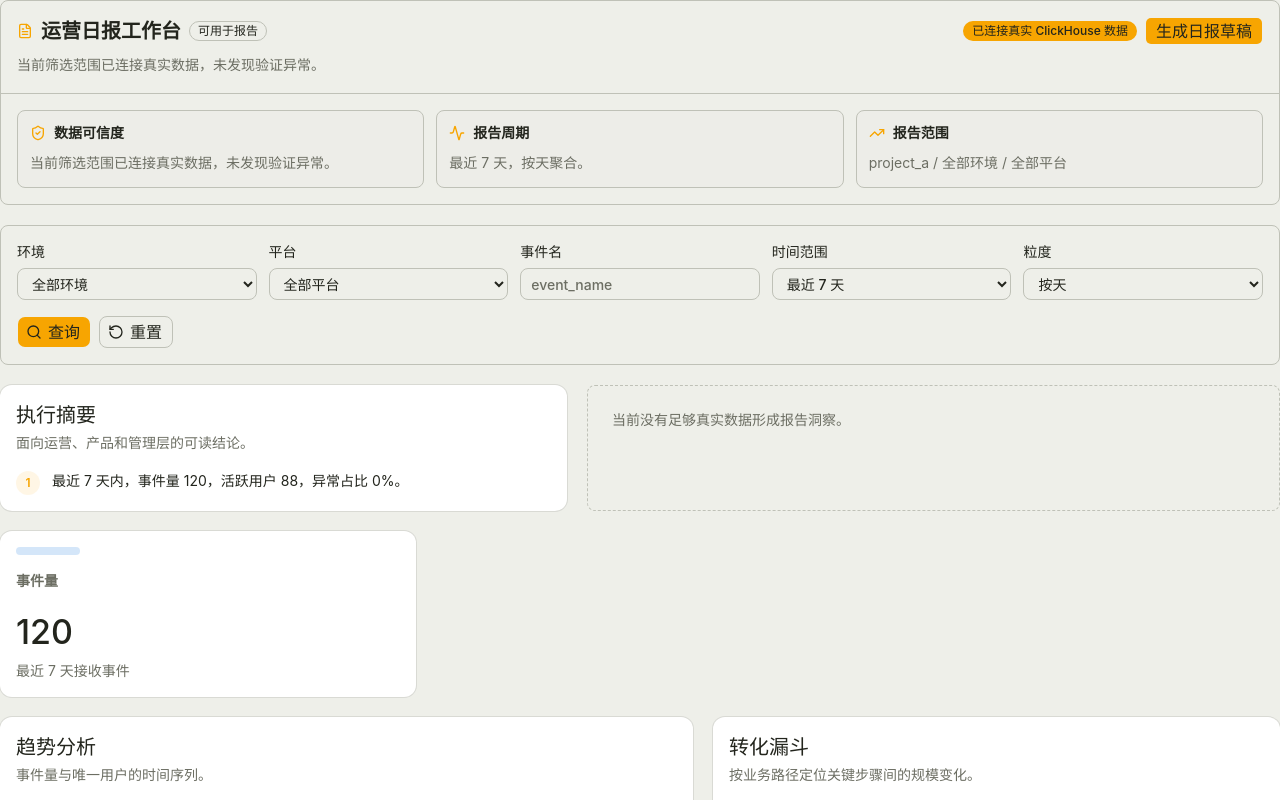
Test: ReportsWorkbench client refresh › refreshes report filters through the preview API without page links
Expected: the dropdown named "range" is shown, [772,268,1011,300]
Expected: the dropdown named "granularity" is shown, [1023,268,1263,300]
Select "prod" in the dropdown named "environment" at {"x": 137, "y": 284}, box [17,268,257,300]
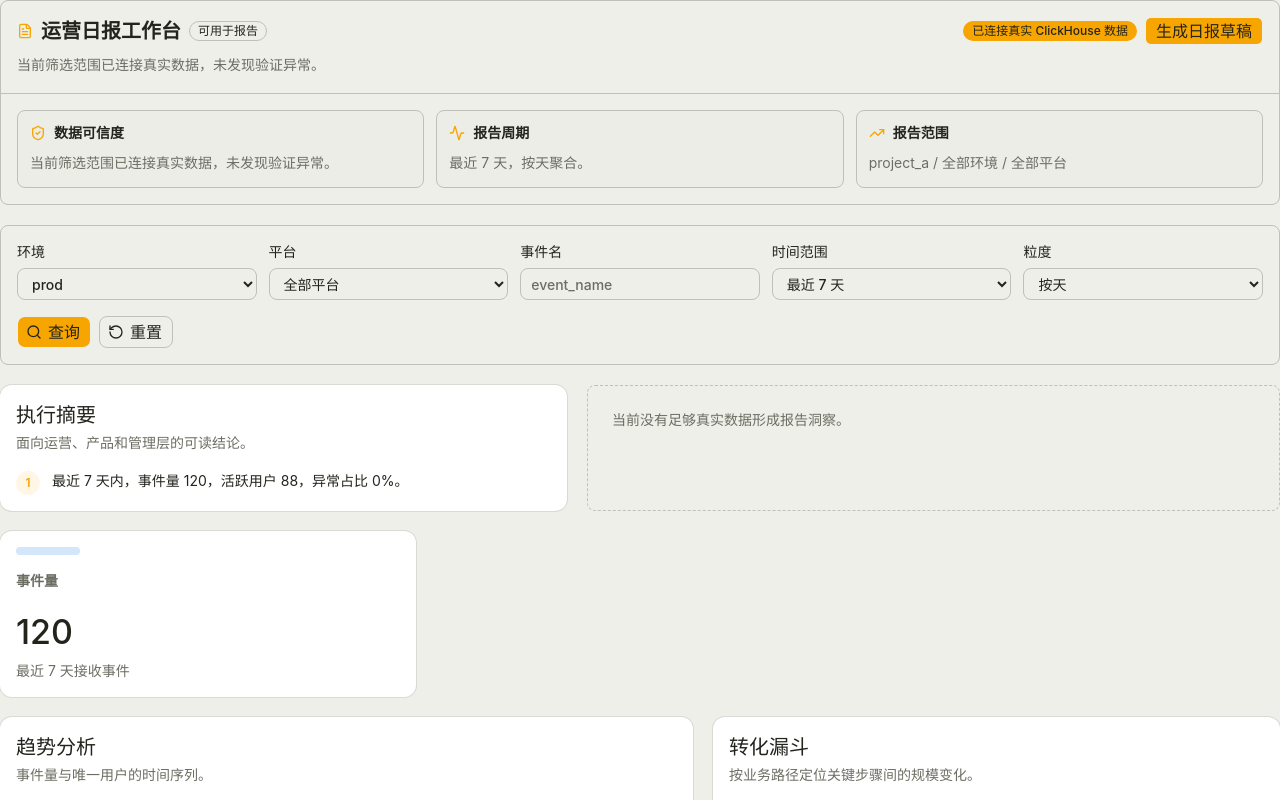
Select "最近 30 天" in the dropdown named "range" at {"x": 892, "y": 284}, box [772,268,1011,300]
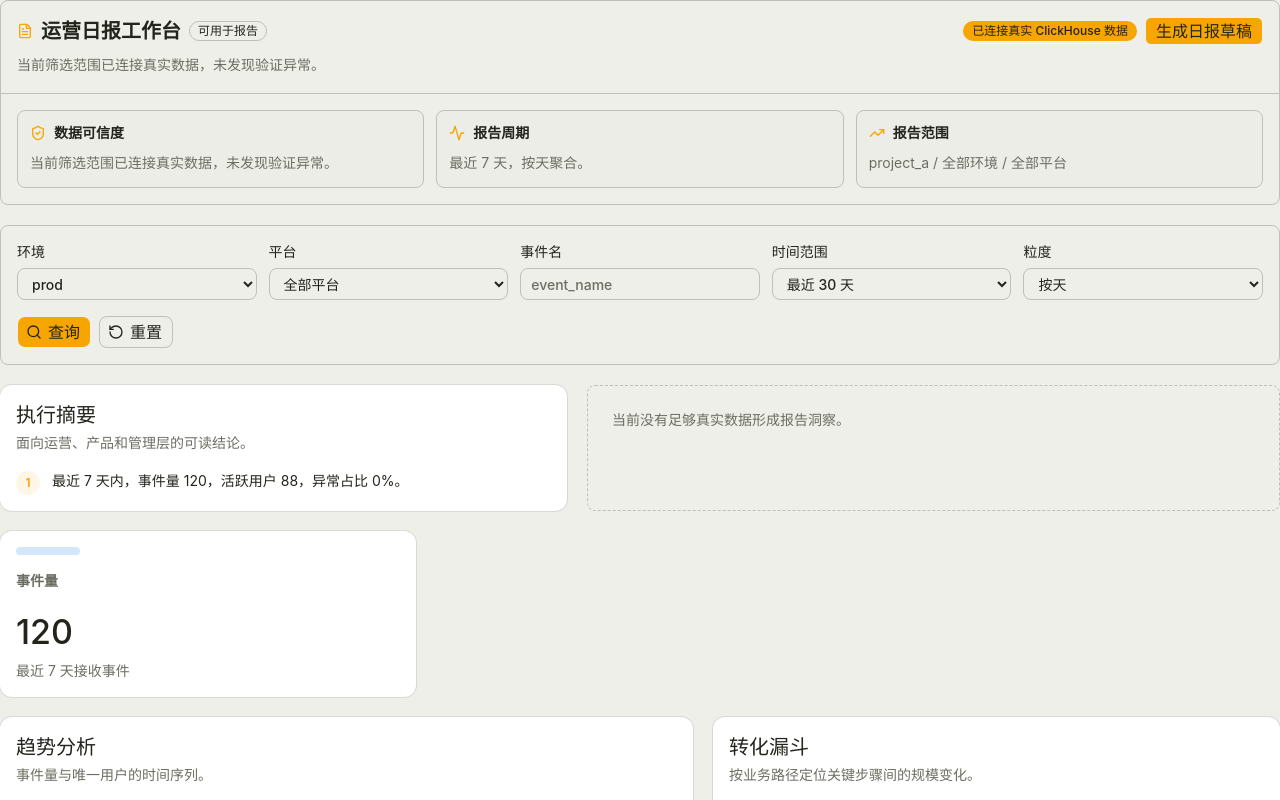
Select "按小时" in the dropdown named "granularity" at {"x": 1143, "y": 284}, box [1023,268,1263,300]
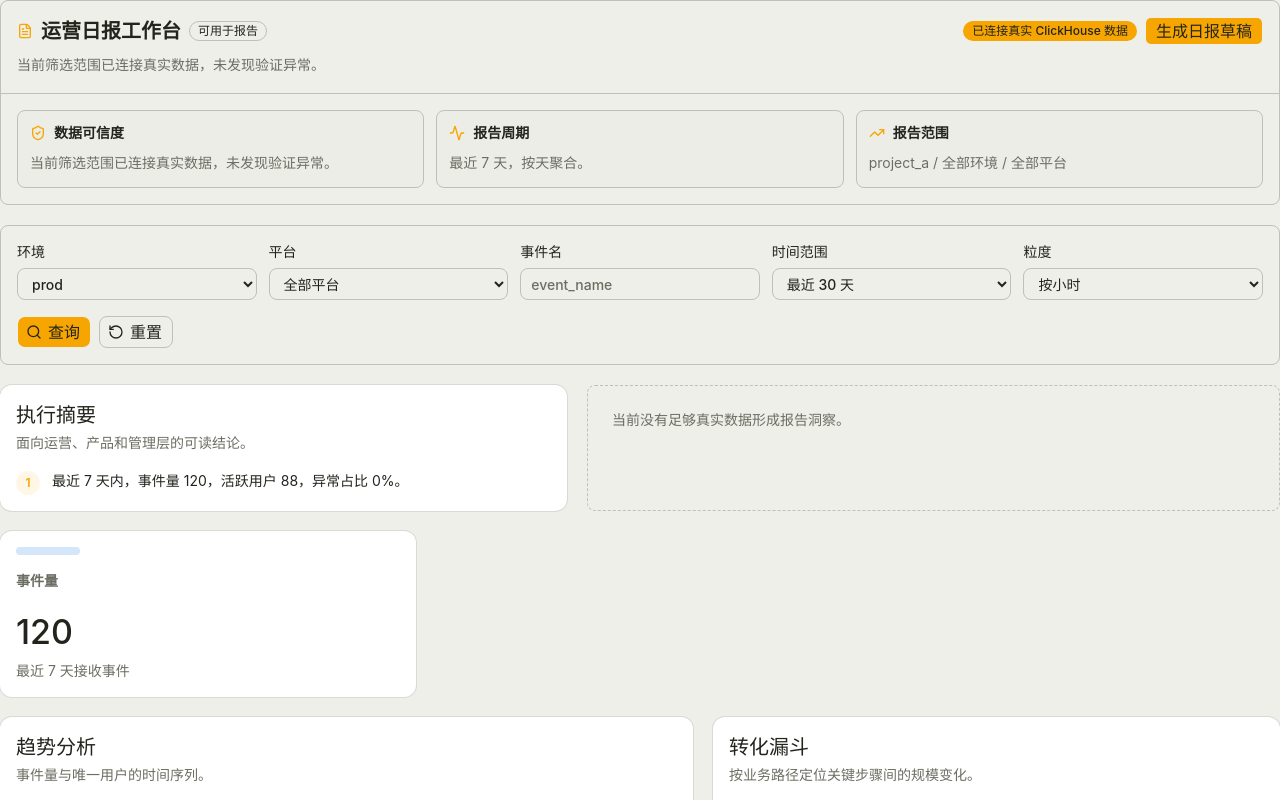
Click the button "查询" at {"x": 54, "y": 332}, box [17,316,91,348]
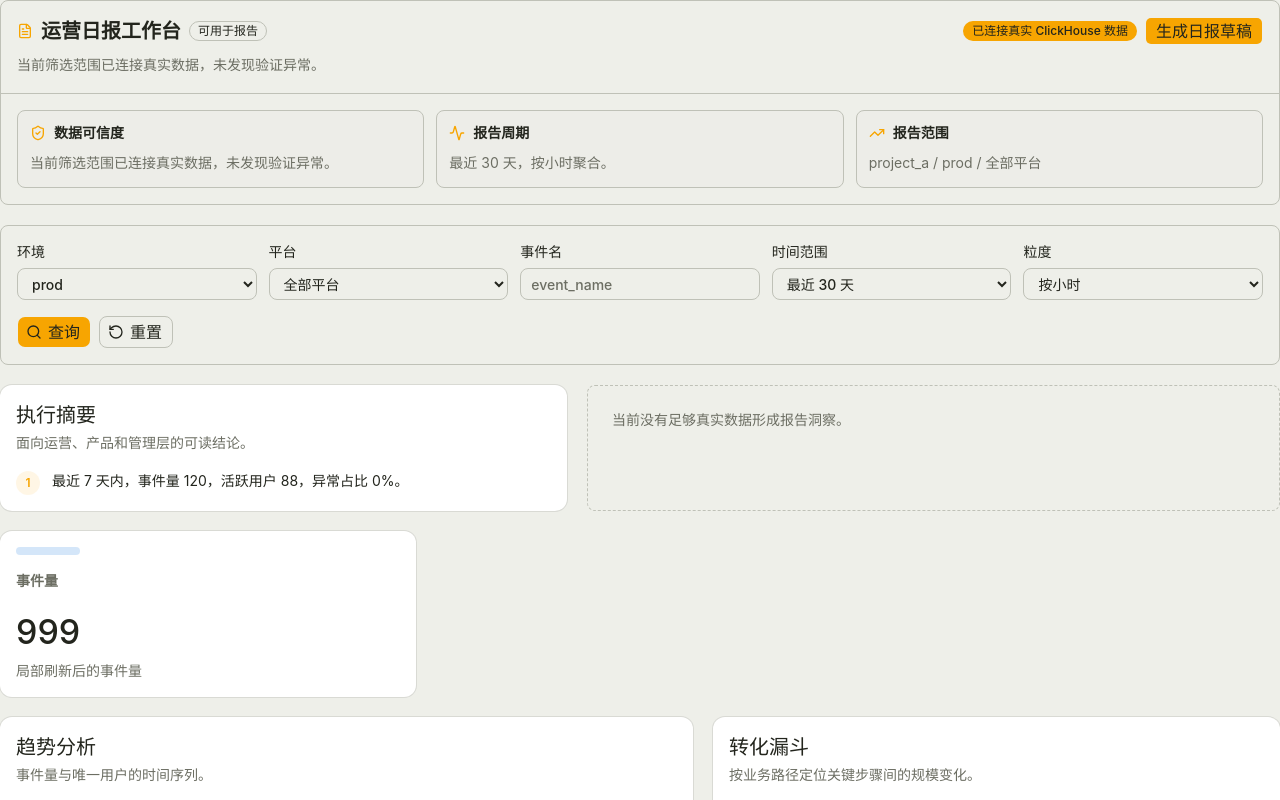
Expected: the text "999" is shown, [16,611,80,652]
